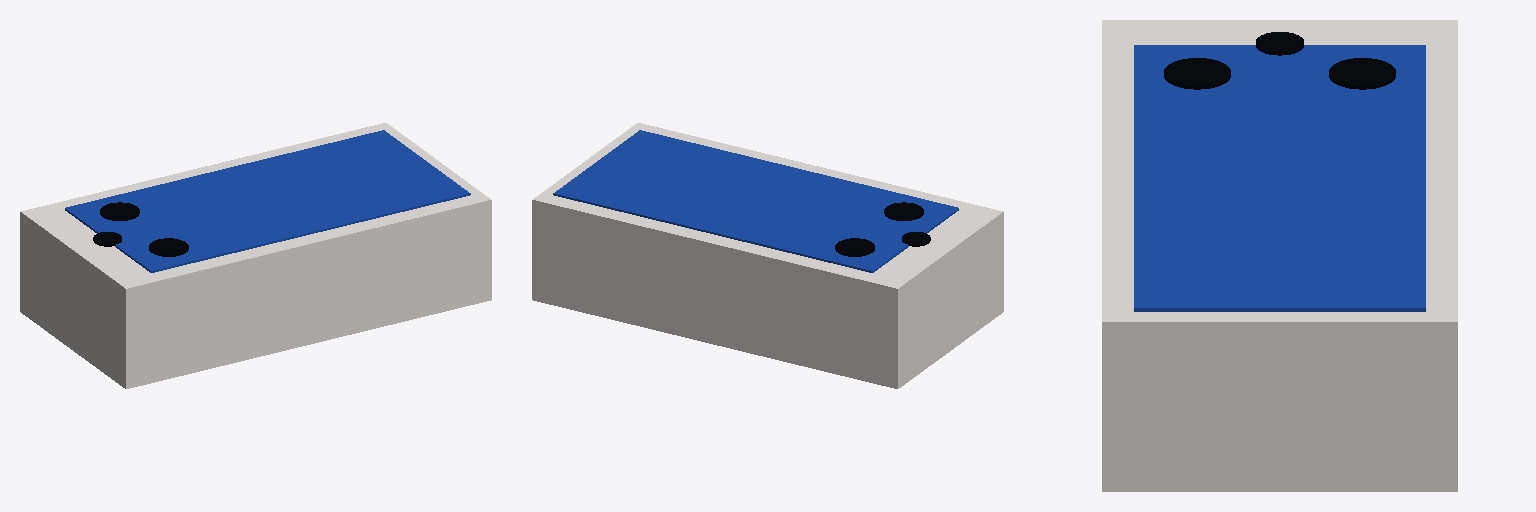
robot.urdf — flip_phone_box_heavy:
<?xml version="1.0"?>
<!-- Phone-shaped block: 190 x 95 x 50 mm (the scene sets its mass). -->
<robot name="flip_phone_box_heavy">
  <link name="box">
    <inertial>
      <origin xyz="0 0 0" rpy="0 0 0"/>
      <mass value="0.35"/>
      <inertia ixx="0.000336" ixy="0" ixz="0" iyy="0.001126" iyz="0" izz="0.001316"/>
    </inertial>
    <visual>
      <geometry><box size="0.190 0.095 0.050"/></geometry>
      <material name="box_white"><color rgba="0.93 0.91 0.90 1"/></material>
    </visual>
    <visual>
      <origin xyz="0.006 0 0.0256" rpy="0 0 0"/>
      <geometry><box size="0.166 0.078 0.001"/></geometry>
      <material name="phone_blue"><color rgba="0.16 0.36 0.72 1"/></material>
    </visual>
    <visual>
      <origin xyz="-0.058 -0.022 0.0263" rpy="0 0 0"/>
      <geometry><cylinder radius="0.009" length="0.0015"/></geometry>
      <material name="camera_dark"><color rgba="0.04 0.05 0.06 1"/></material>
    </visual>
    <visual>
      <origin xyz="-0.058 0.022 0.0263" rpy="0 0 0"/>
      <geometry><cylinder radius="0.009" length="0.0015"/></geometry>
      <material name="camera_dark_2"><color rgba="0.04 0.05 0.06 1"/></material>
    </visual>
    <visual>
      <origin xyz="-0.077 0 0.0263" rpy="0 0 0"/>
      <geometry><cylinder radius="0.0065" length="0.0015"/></geometry>
      <material name="camera_dark_3"><color rgba="0.04 0.05 0.06 1"/></material>
    </visual>
    <collision>
      <geometry><box size="0.190 0.095 0.050"/></geometry>
    </collision>
  </link>
</robot>

--- What the picture shows (computed from the rendered views, not written in the file) ---
3 views of the same robot in one strip: view 1: azimuth 30°, elevation 25°; view 2: azimuth 150°, elevation 25°; view 3: azimuth 270°, elevation 25° (orthographic).
Robot: flip_phone_box_heavy — 1 links, 0 joints (none); root link box; default pose: every joint at zero.
Visible links, largest first — view 1: box; view 2: box; view 3: box.
Link boxes in pixels (left/top/right/bottom): box: left=20, top=123, right=491, bottom=388; box: left=532, top=123, right=1003, bottom=388; box: left=1102, top=20, right=1457, bottom=491.
Size in the robot's own frame: 0.19 by 0.095 by 0.0521 metres.
Geometry: primitives only (box / cylinder / sphere), no mesh files.
